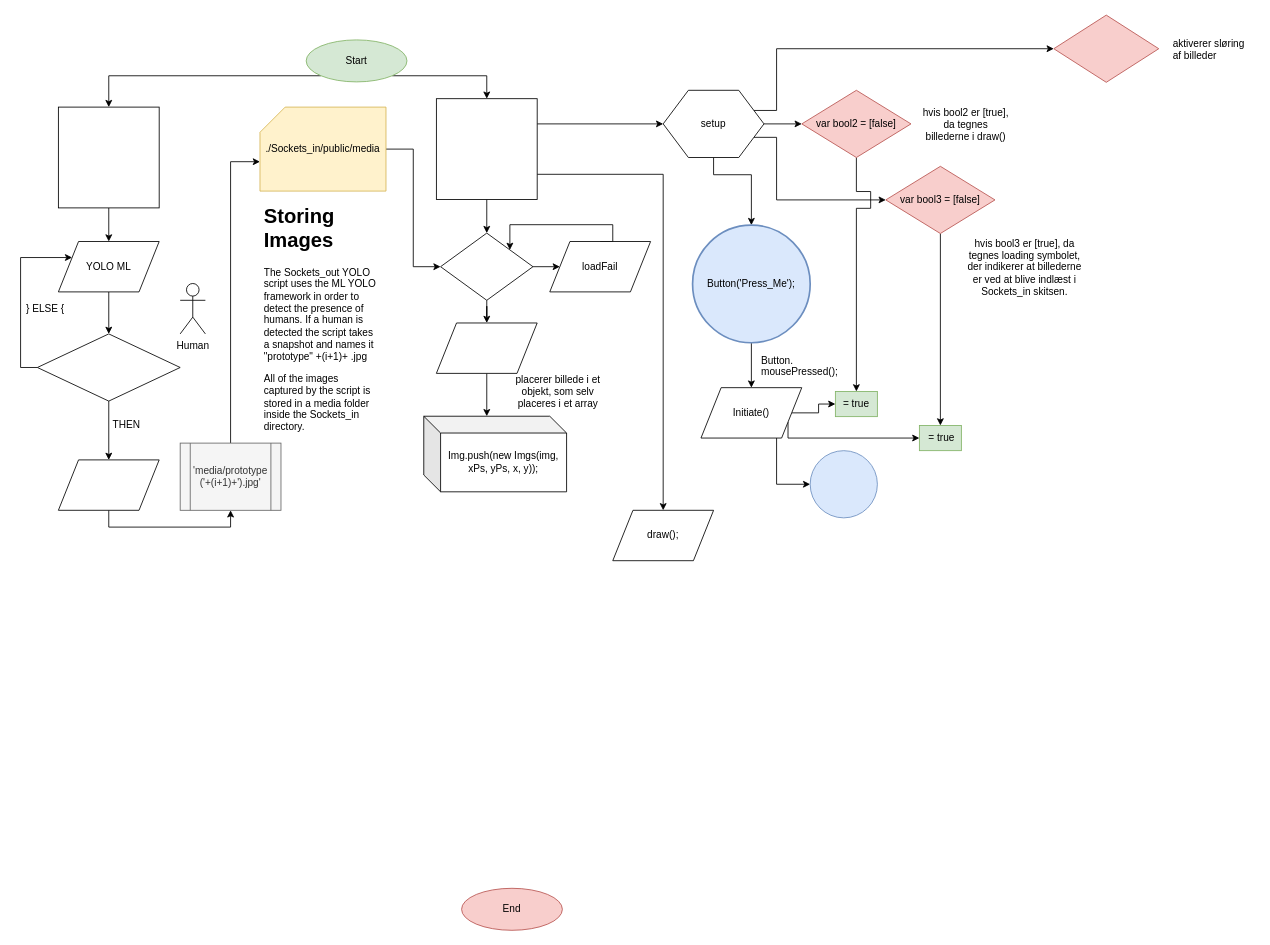
The diagram is 1270 pixels wide and 945 high, and some of its shapes have lost their labels. The centre of each missing label's shape, as x and y in pixels:
Button.hide(): the point at 843,484
if (yolo.detect(Human)) {: the point at 108,367
loadImage();: the point at 486,266
loadSucces: the point at 486,347
save.Canvas: the point at 108,484
Sockets_in: the point at 486,149
Sockets_out YOLO: the point at 108,157
var bool = [false]: the point at 1106,48
